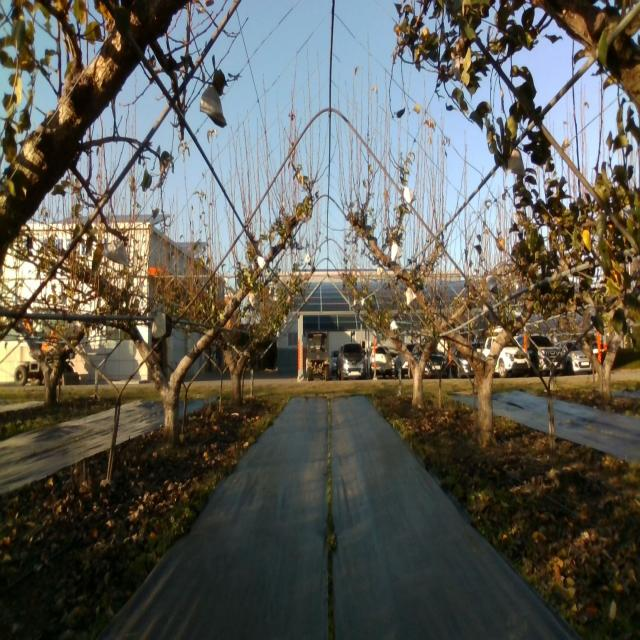pearbags: (200, 84, 226, 128), (102, 236, 130, 265), (508, 146, 526, 177), (452, 56, 465, 84), (486, 273, 499, 294), (403, 186, 416, 205)
